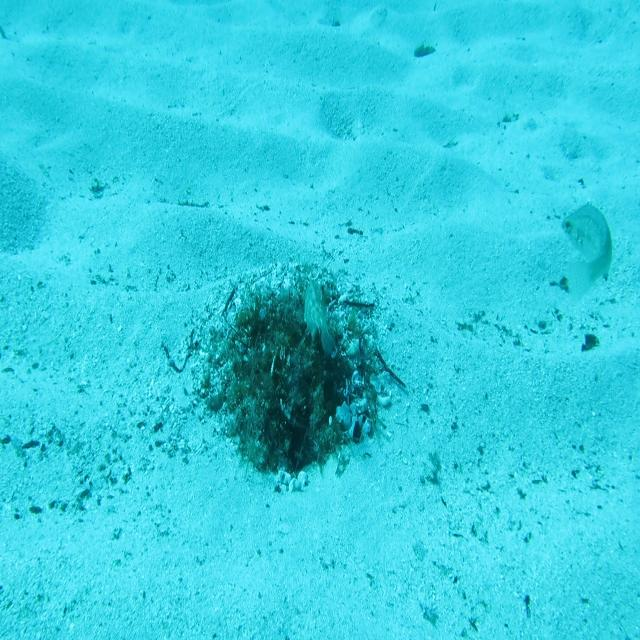NIP_CORE: (302, 276, 337, 360)
core_nest: (265, 313, 330, 360)
female: (559, 196, 612, 307)
nest: (184, 247, 404, 505)
vegetation: (579, 328, 599, 352)
